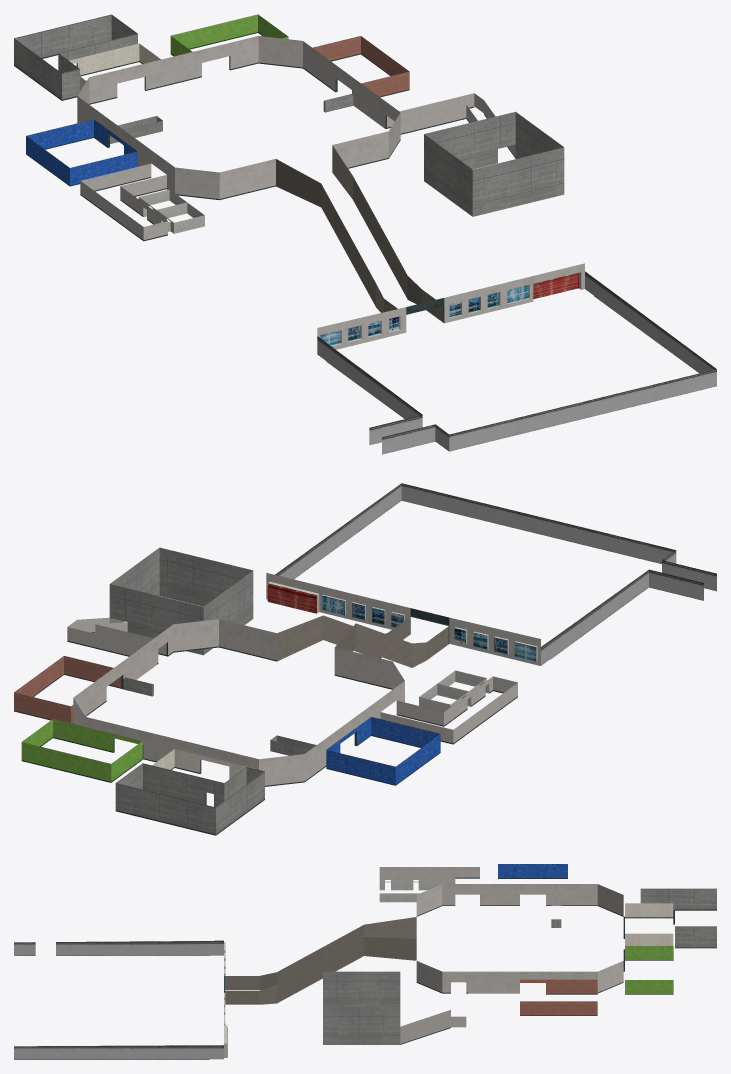
Rendered from ParedesMap2.fbx.
The picture shows the model from 3 angles, top to bottom: view 1: azimuth 30°, elevation 25°; view 2: azimuth 150°, elevation 25°; view 3: azimuth 270°, elevation 25°; orthographic projection. The views are drawn at different scales.
Visible parts, largest first — view 1: Plane.013, Plane.011, Plane.031, Plane.019, Plane.029, Plane.015, Plane.014, Plane.032, Plane.017, Plane.012, Plane.056, Plane.007 (+22 smaller); view 2: Plane.013, Plane.011, Plane.031, Plane.029, Plane.056, Plane.015, Plane.017, Plane.019, Plane.014, Plane.012, Plane.007, Plane.054 (+26 smaller); view 3: Plane.014, Plane.012, Plane.030, Plane.032, Plane.021, Plane.015, Plane.007, Plane.017, Plane.057, Plane.037, Plane.070, Plane.066 (+15 smaller).
Boxes of the visible parts, x1,y1,x2,y2 form: Plane.013: (317, 263, 584, 349); Plane.011: (449, 369, 716, 451); Plane.031: (472, 147, 564, 216); Plane.019: (89, 36, 258, 104); Plane.029: (424, 112, 515, 169); Plane.015: (276, 159, 397, 312); Plane.014: (332, 145, 444, 322); Plane.032: (424, 134, 472, 216); Plane.017: (303, 41, 400, 128); Plane.012: (585, 271, 716, 373); Plane.056: (14, 14, 111, 58); Plane.007: (317, 336, 422, 418); Plane.013: (266, 573, 540, 665); Plane.011: (401, 483, 675, 563); Plane.031: (159, 547, 252, 606); Plane.029: (109, 584, 203, 655); Plane.056: (115, 783, 215, 835); Plane.015: (335, 623, 449, 667); Plane.017: (73, 624, 173, 716); Plane.019: (85, 717, 258, 769); Plane.014: (277, 615, 410, 661); Plane.012: (275, 483, 401, 579); Plane.007: (541, 570, 648, 665); Plane.054: (143, 763, 224, 807); Plane.014: (224, 937, 416, 1004); Plane.012: (14, 1045, 223, 1059); Plane.030: (323, 1007, 400, 1044); Plane.032: (323, 971, 400, 1007); Plane.021: (442, 884, 597, 905); Plane.015: (225, 917, 416, 989); Plane.007: (56, 940, 223, 955); Plane.017: (442, 971, 597, 993); Plane.057: (640, 888, 716, 910); Plane.037: (520, 1001, 597, 1015); Plane.070: (379, 867, 479, 878); Plane.066: (498, 864, 567, 878).
Size of the model in its own units: 12189 by 2664 by 24226.
Materials: 12 (12 with a texture image).
